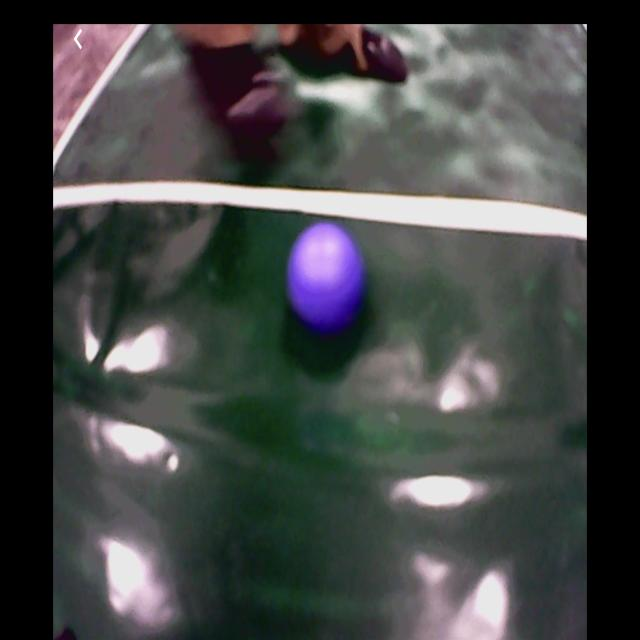ball: (292, 224, 364, 337)
